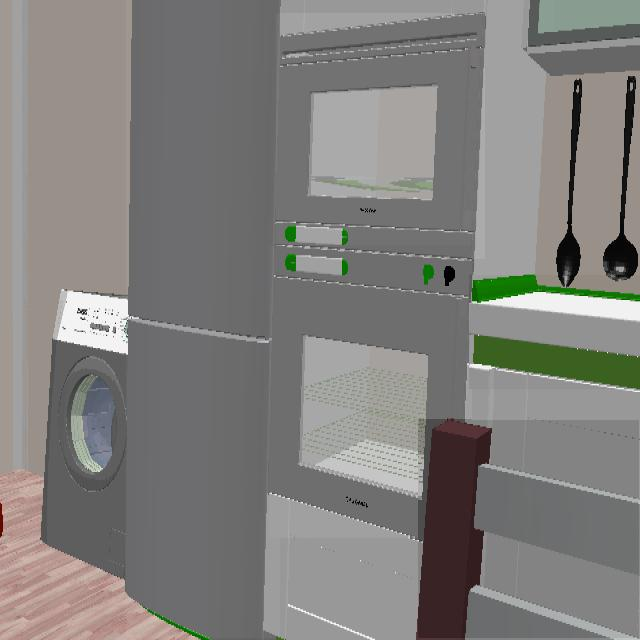chair: (419, 420, 639, 638)
countertop: (470, 275, 639, 389)
fridge: (127, 0, 280, 638)
microwave: (277, 13, 485, 258)
oven: (269, 246, 472, 537)
